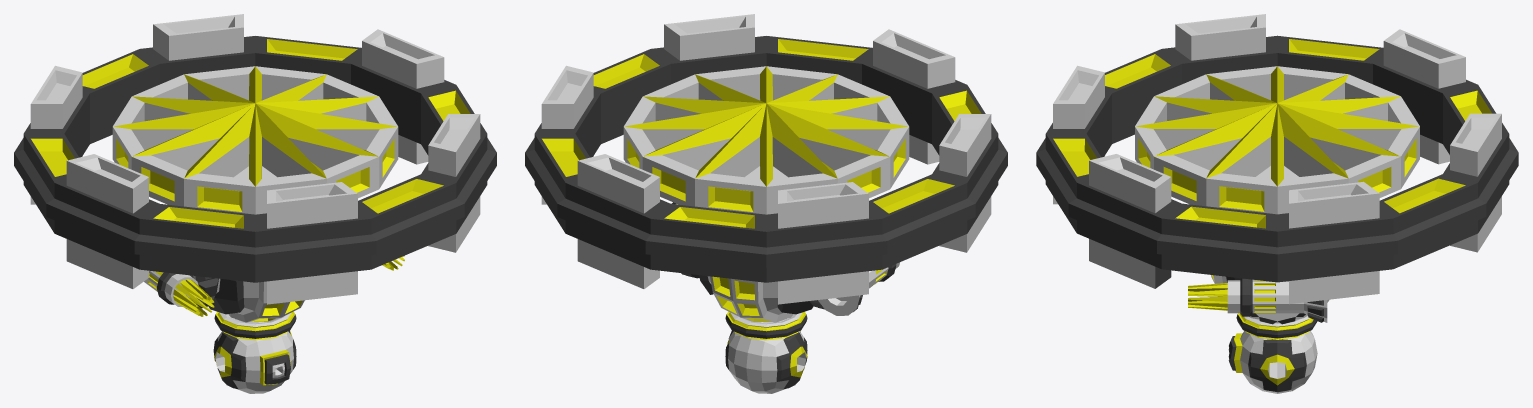
File: mid_tower2_2.fbx
3 views of the same model, side by side, from view 1: azimuth 30°, elevation 25°; view 2: azimuth 150°, elevation 25°; view 3: azimuth 270°, elevation 25° (orthographic).
Parts seen in each view (by area): view 1: polySurface86; view 2: polySurface86; view 3: polySurface86.
Part boxes in pixels (bbox=[...]): polySurface86: bbox=[14, 14, 496, 393]; polySurface86: bbox=[525, 14, 1007, 393]; polySurface86: bbox=[1036, 14, 1518, 393].
Bounding box in the file's own units: 0.9863 × 0.6465 × 0.9863.
